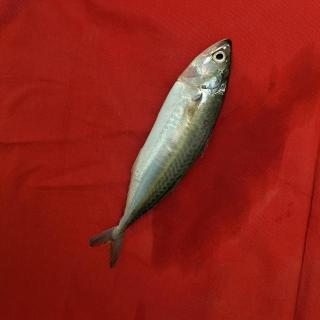Ikan: (75, 20, 245, 276)
